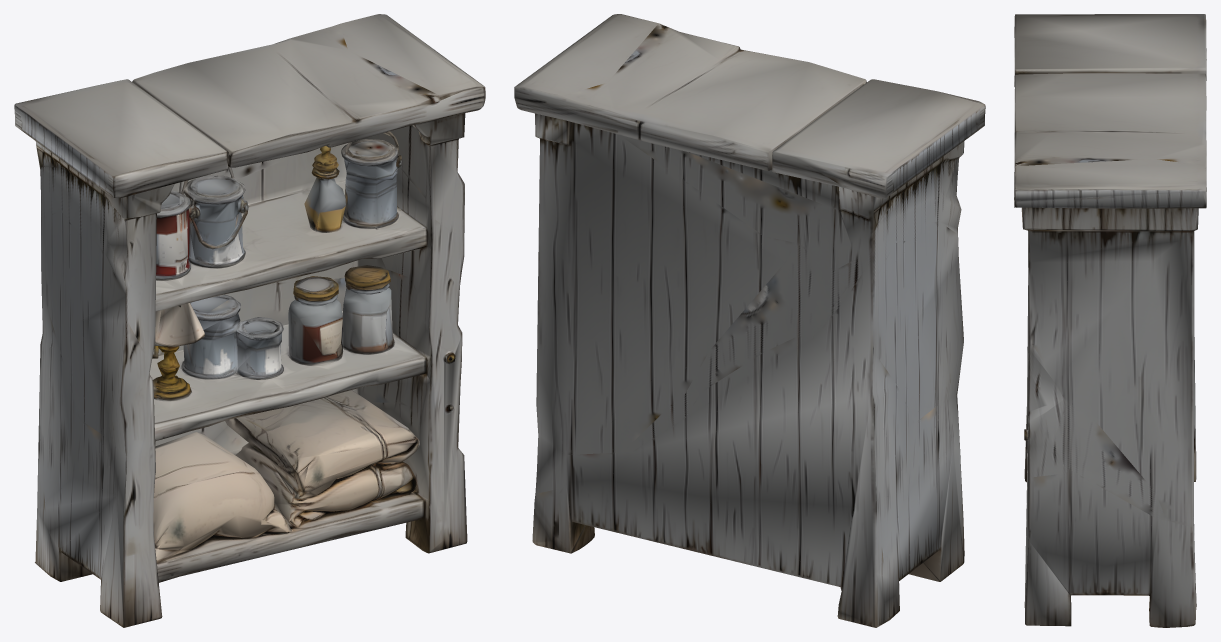
File: lhi_store_shelf.glb
3 views of the same model, side by side, from view 1: azimuth 30°, elevation 25°; view 2: azimuth 150°, elevation 25°; view 3: azimuth 270°, elevation 25° (orthographic). The views are drawn at different scales.
Visible parts, largest first — view 1: material; view 2: material; view 3: material.
Boxes of the visible parts, box(x1,y1,x2,y2) form: material: box(14, 14, 485, 627); material: box(514, 14, 985, 627); material: box(1014, 14, 1206, 627).
Bounding box in the file's own units: 0.7447 × 0.8842 × 0.3454.
Materials: 1 (1 with a texture image).
